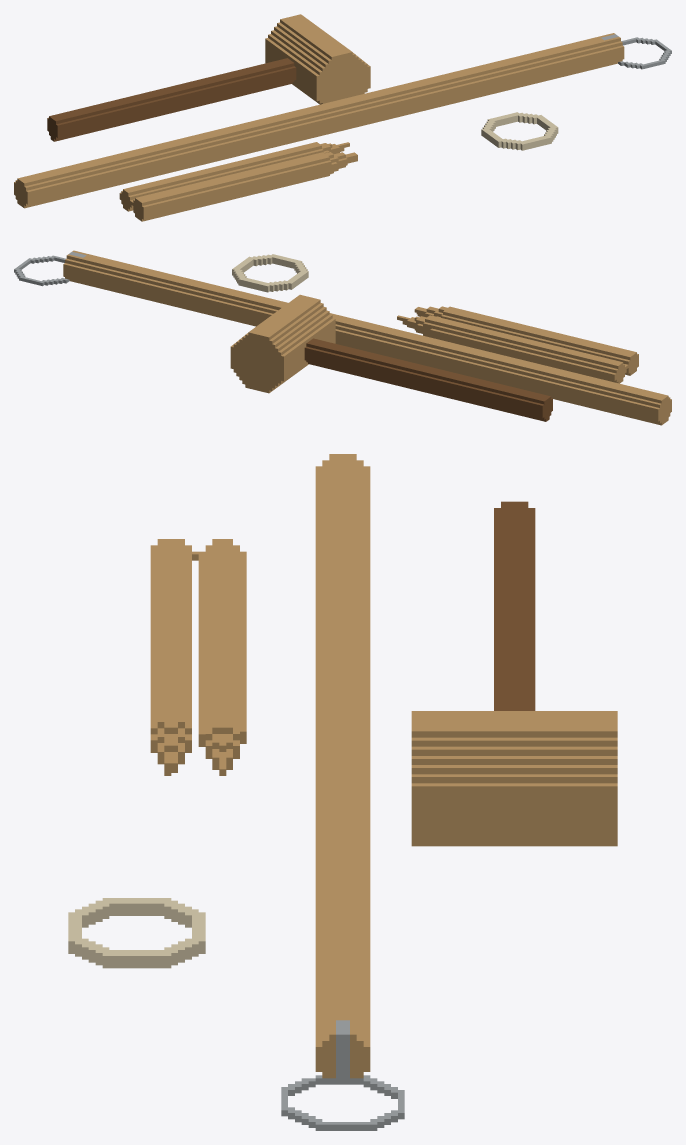
The model's file is light_snare_kit.glb.
3 renders of one model, top to bottom at view 1: azimuth 30°, elevation 25°; view 2: azimuth 150°, elevation 25°; view 3: azimuth 270°, elevation 25°, orthographic. The views are drawn at different scales.
Parts seen in each view (by area): view 1: light_snare_kit:compound; view 2: light_snare_kit:compound; view 3: light_snare_kit:compound.
Boxes of the visible parts, bbox=[...] form: light_snare_kit:compound: bbox=[14, 14, 671, 221]; light_snare_kit:compound: bbox=[14, 250, 671, 425]; light_snare_kit:compound: bbox=[68, 454, 617, 1130].
Size of the model in its own units: 0.864 by 0.072 by 0.32.
